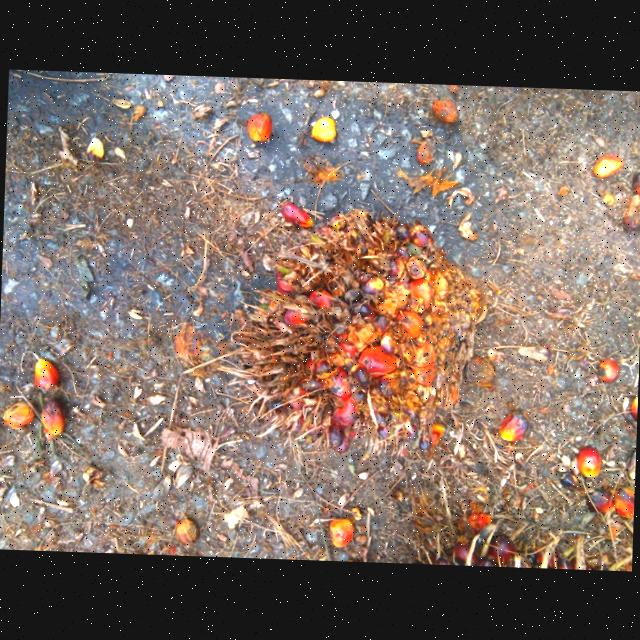Overripe: (229, 206, 487, 450)
